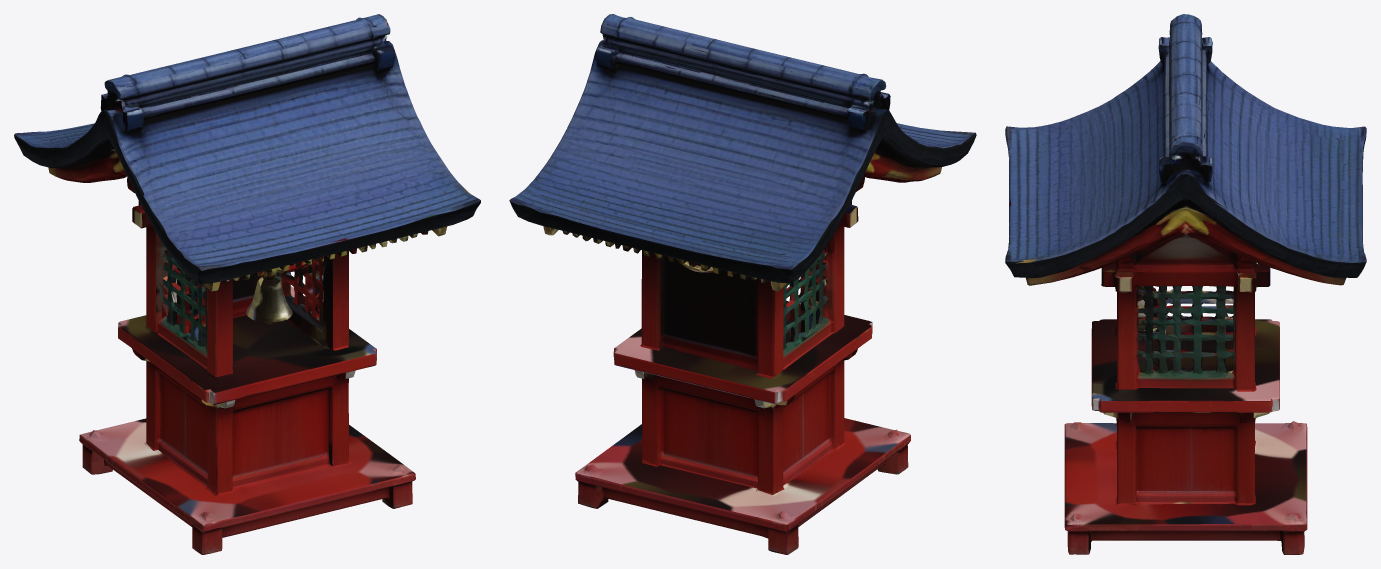
The model's file is traveler_env_coast_bayushi_shrine_lattice_00001_.glb.
3 renders of one model, left to right at view 1: azimuth 30°, elevation 25°; view 2: azimuth 150°, elevation 25°; view 3: azimuth 270°, elevation 25°, orthographic. The views are drawn at different scales.
Parts seen in each view (by area): view 1: temp_mesh.ply; view 2: temp_mesh.ply; view 3: temp_mesh.ply.
Boxes of the visible parts, left/top/right/bottom form: temp_mesh.ply: left=14, top=14, right=480, bottom=554; temp_mesh.ply: left=509, top=14, right=976, bottom=554; temp_mesh.ply: left=1005, top=14, right=1366, bottom=554.
Size of the model in its own units: 1.35 by 1.98 by 1.51.
Materials: 1 (1 with a texture image).
